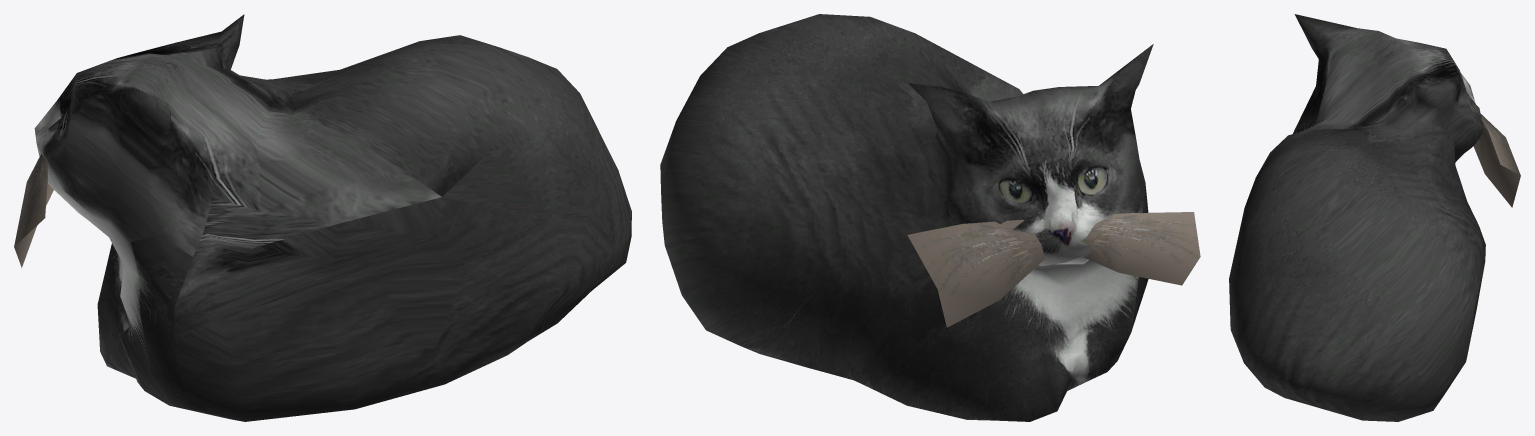
3 renders of one model, left to right at view 1: azimuth 30°, elevation 25°; view 2: azimuth 150°, elevation 25°; view 3: azimuth 270°, elevation 25°, orthographic. The views are drawn at different scales.
Parts seen in each view (by area): view 1: vasi; view 2: vasi; view 3: vasi.
Part boxes in pixels (left/top/right/bottom): vasi: left=14, top=14, right=631, bottom=421; vasi: left=660, top=14, right=1200, bottom=421; vasi: left=1229, top=14, right=1520, bottom=421.
Size of the model in its own units: 3.23 by 1.87 by 1.82.
Materials: 2 (2 with a texture image).
